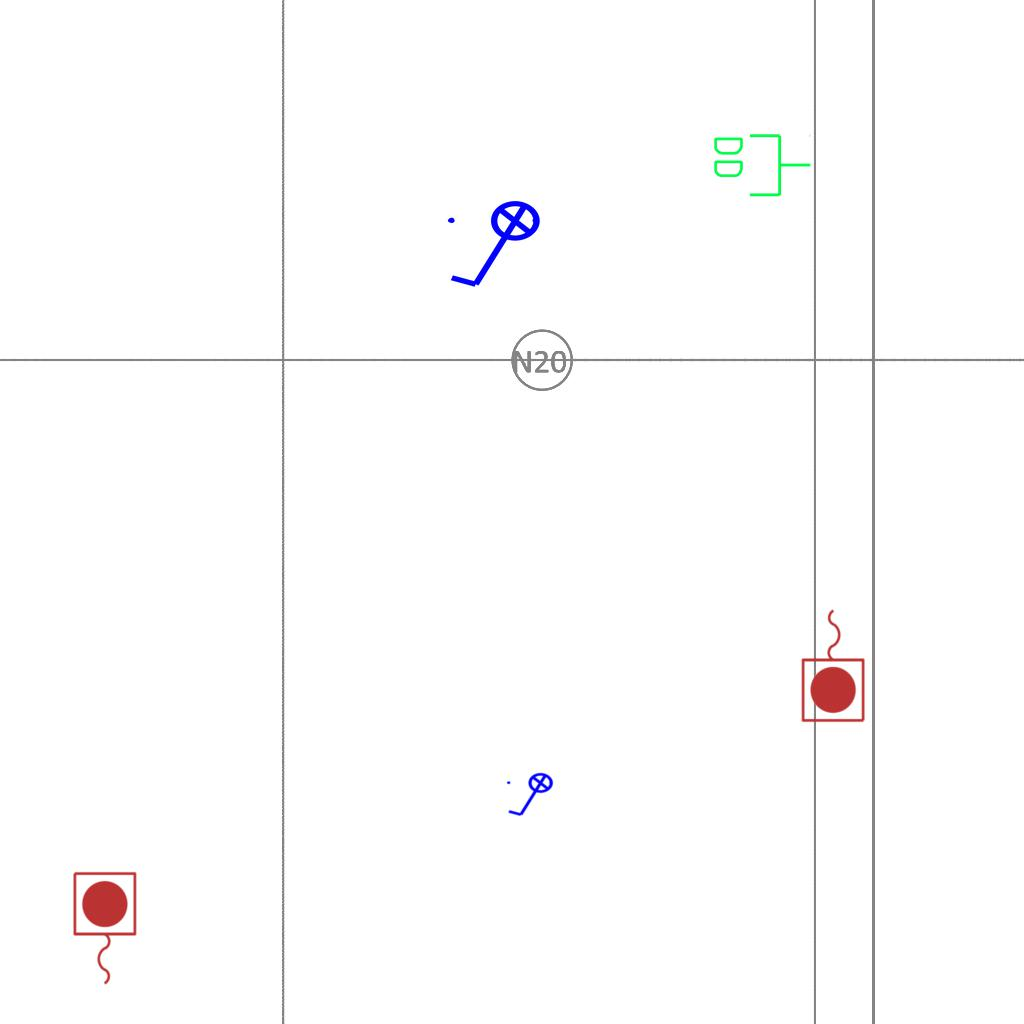Ausschalter_beleuchtet: (442, 199, 554, 295), (504, 772, 560, 820)
Datenanschluss_zweifach: (710, 130, 813, 199)
Zugtaster: (68, 868, 140, 990), (798, 604, 870, 726)
